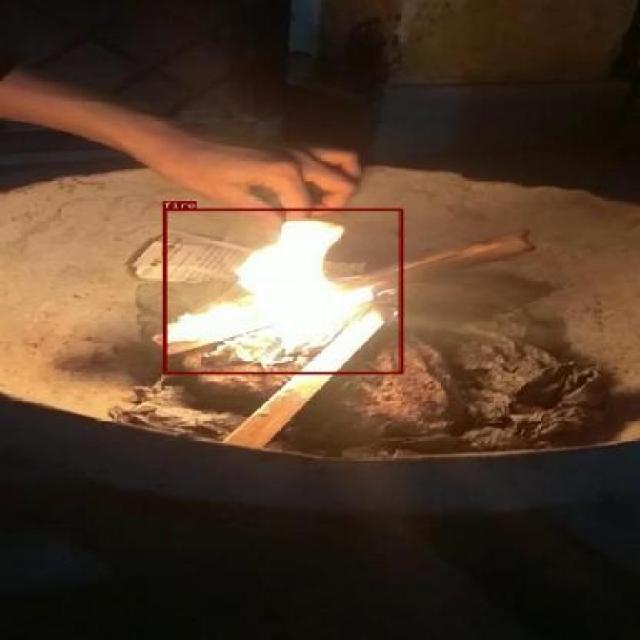Fire: (162, 208, 404, 374)
